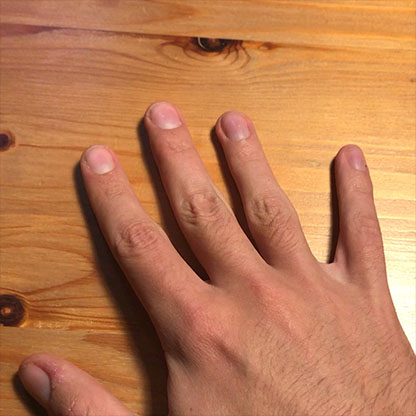fingertip: (143, 96, 194, 140), (75, 143, 127, 183), (211, 105, 257, 147), (331, 137, 376, 178)
